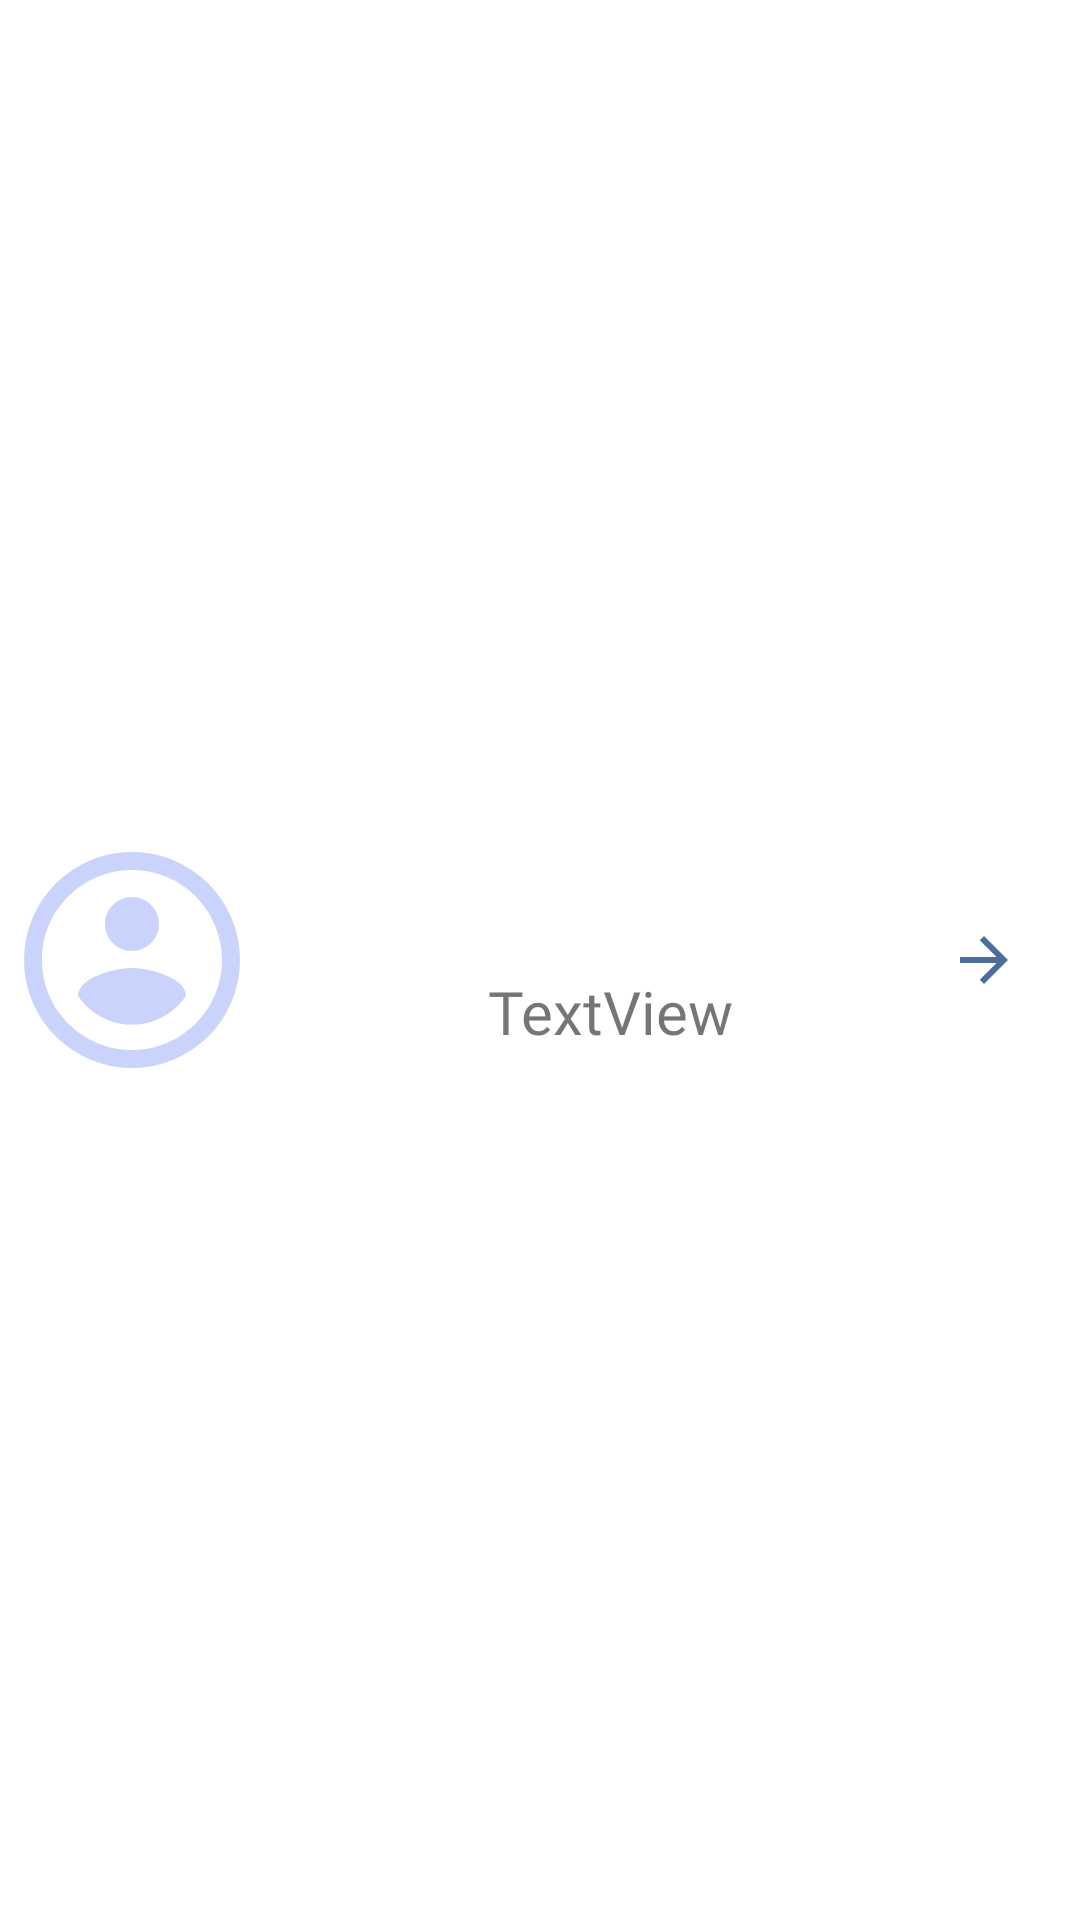

Screen size 1080 x 1920. Icon name, then its center in pixels as [x,y]:
account circle: [132,960]
arrow forward: [984,960]
